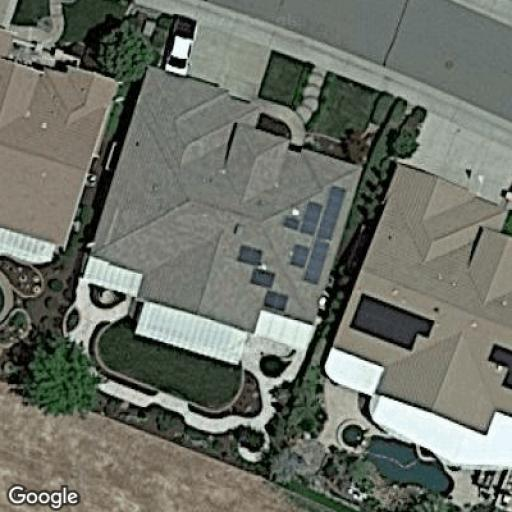solar-panel: (283, 184, 350, 286), (346, 291, 436, 355), (234, 242, 291, 314), (486, 341, 512, 394)
